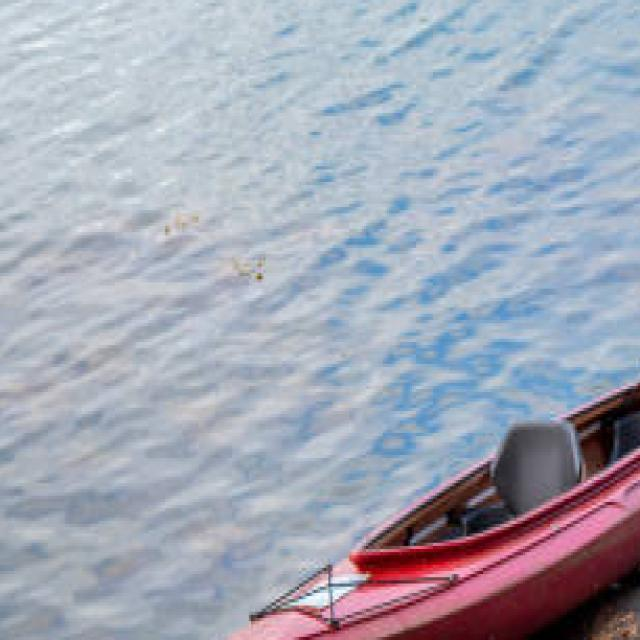kayak: (210, 369, 640, 640)
